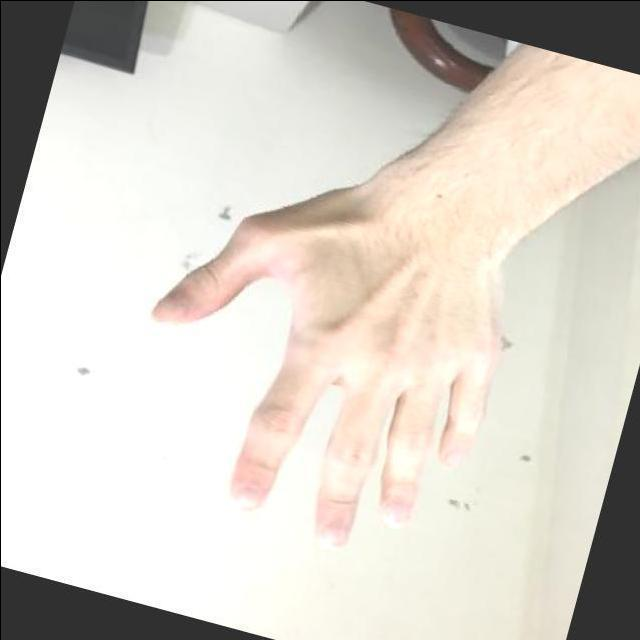hand: (87, 113, 563, 600)
